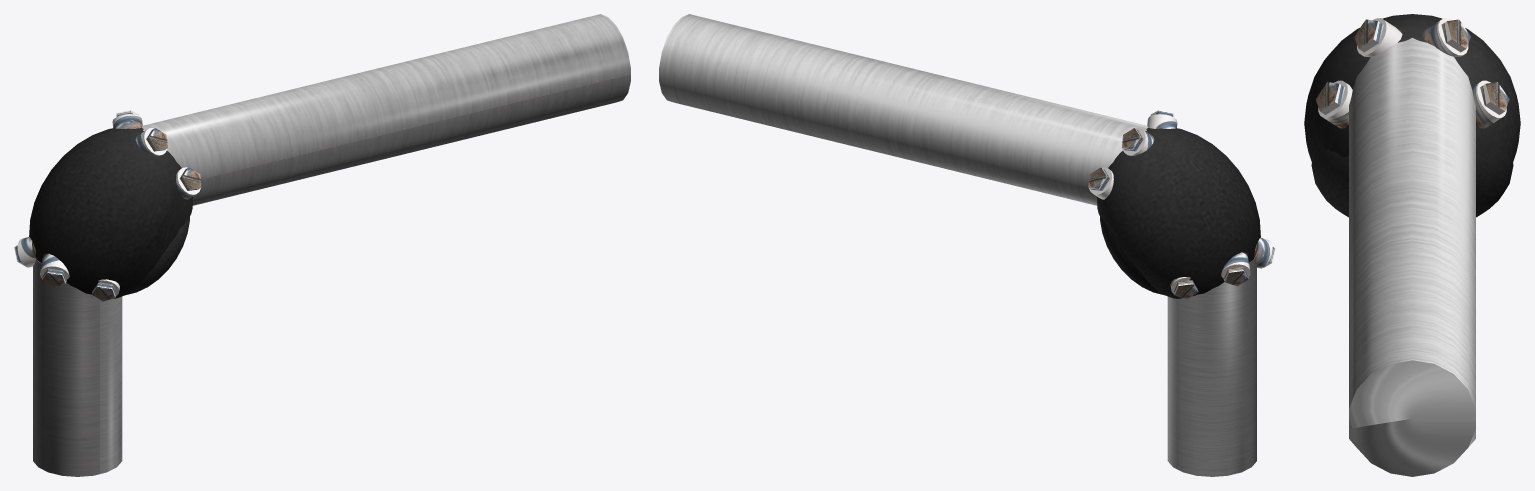
Rendered from TuberiaTexturizada.fbx.
The picture shows the model from 3 angles, left to right: view 1: azimuth 30°, elevation 25°; view 2: azimuth 150°, elevation 25°; view 3: azimuth 270°, elevation 25°; orthographic projection. The views are drawn at different scales.
Visible parts, largest first — view 1: TuberiaHorizontal, Sphere001, TuberiaVerticar, Sphere002, Cylinder009, Cylinder004, Cylinder003; view 2: TuberiaHorizontal, Sphere001, TuberiaVerticar, Sphere002, Cylinder008, Cylinder005, Cylinder006; view 3: TuberiaHorizontal, Sphere001, Sphere002, Cylinder005, Cylinder006, Cylinder004, Cylinder003.
Part boxes in pixels (x1,y1,x2,y2): TuberiaHorizontal: (141,14,630,205); Sphere001: (29,127,193,298); TuberiaVerticar: (33,259,122,476); Sphere002: (126,216,189,294); Cylinder009: (40,253,69,287); Cylinder004: (135,128,167,155); Cylinder003: (176,167,201,199); TuberiaHorizontal: (659,14,1148,205); Sphere001: (1096,127,1260,298); TuberiaVerticar: (1167,259,1256,476); Sphere002: (1100,216,1163,294); Cylinder008: (1221,252,1250,286); Cylinder005: (1122,128,1154,155); Cylinder006: (1088,167,1113,199); TuberiaHorizontal: (1349,38,1475,476); Sphere001: (1304,14,1520,161); Sphere002: (1311,147,1513,217); Cylinder005: (1422,18,1470,57); Cylinder006: (1472,80,1509,128); Cylinder004: (1354,18,1402,57); Cylinder003: (1315,80,1352,128).
Size of the model in its own units: 1.48 by 0.786 by 0.3365.
3 materials, 3 textured.
